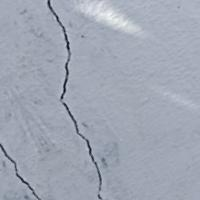crack: (0, 0, 119, 199)
